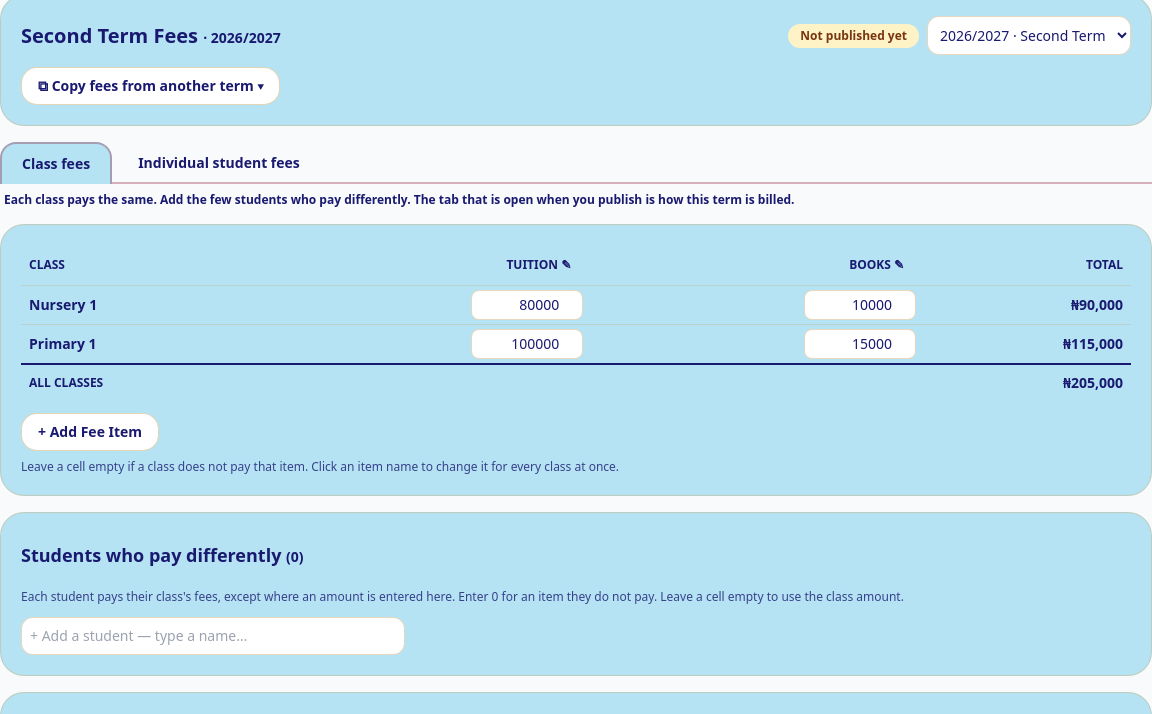
changing fees after billing asks what should happen to students already billed
The image size is (1152, 714).
Replace the text in the number field named "Primary 1 Tuition" with "160000" at (527, 344), box [471, 329, 583, 359]
(page scrolled)
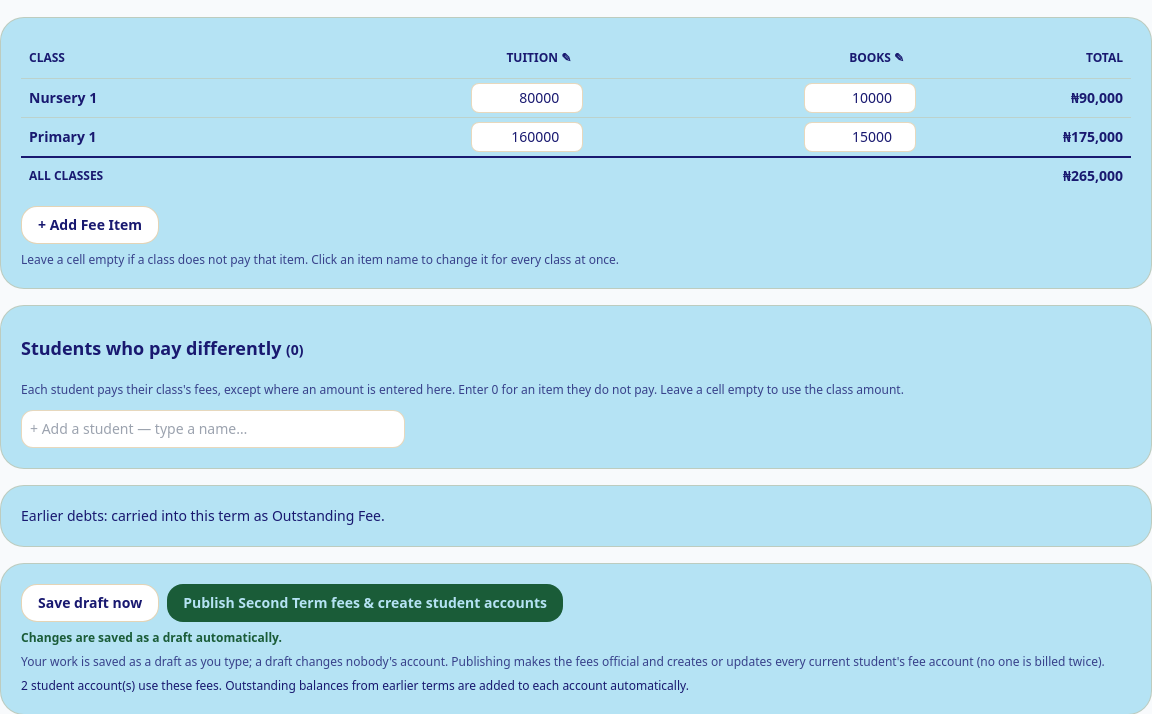
Click the button "Publish Second Term fees & create student accounts".
click(365, 603)  # box [167, 584, 563, 622]
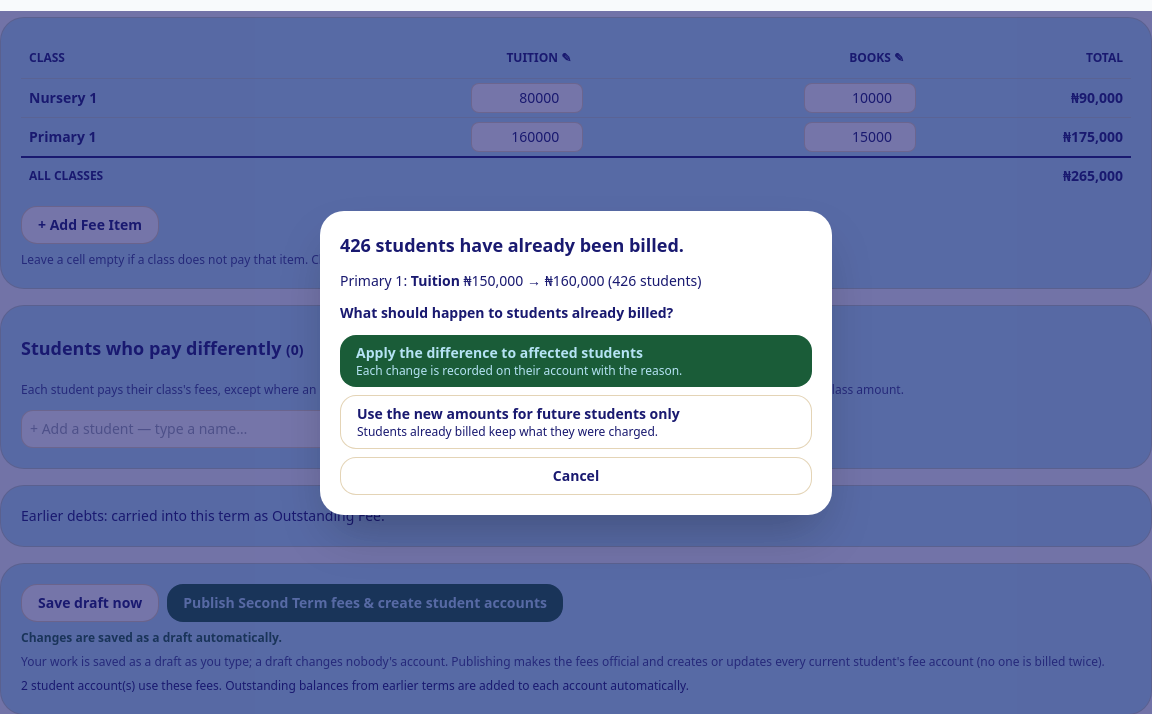
Expected: the heading "426 students have already been billed." is shown, [340, 233, 684, 257]
Click the button "Apply the difference".
click(576, 361)  # box [340, 335, 812, 387]
(page scrolled)
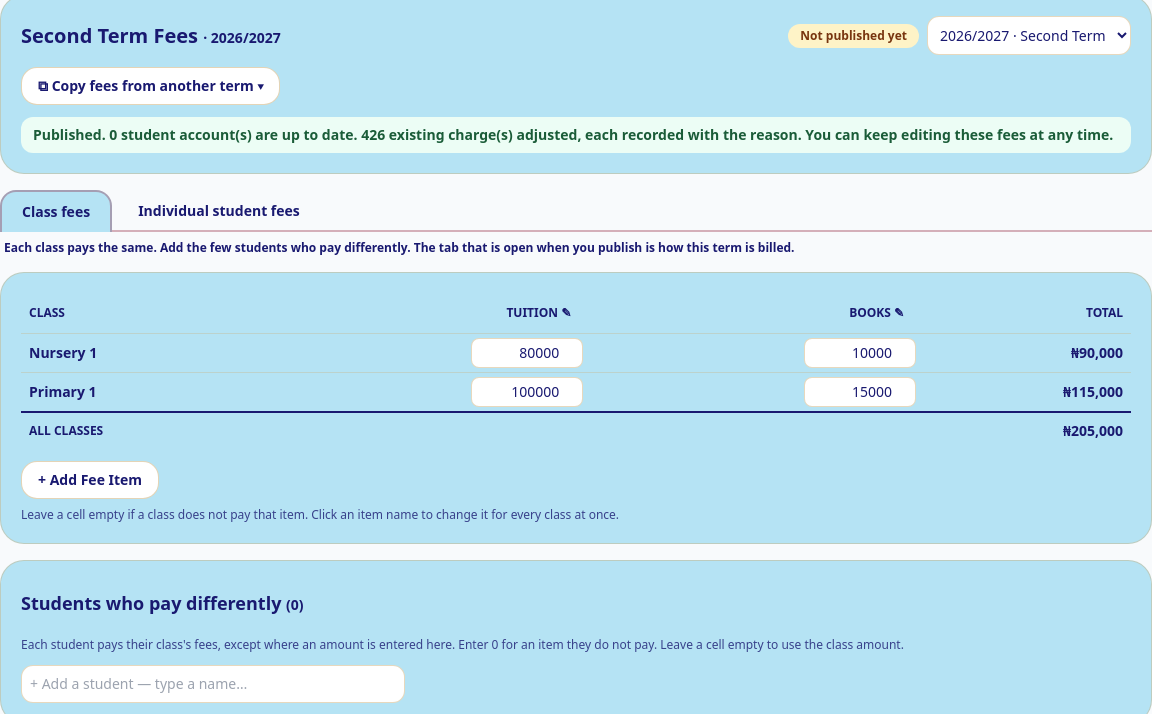
Expected: the text "426 existing charge(s) adjusted" is shown, [33, 125, 1113, 144]
